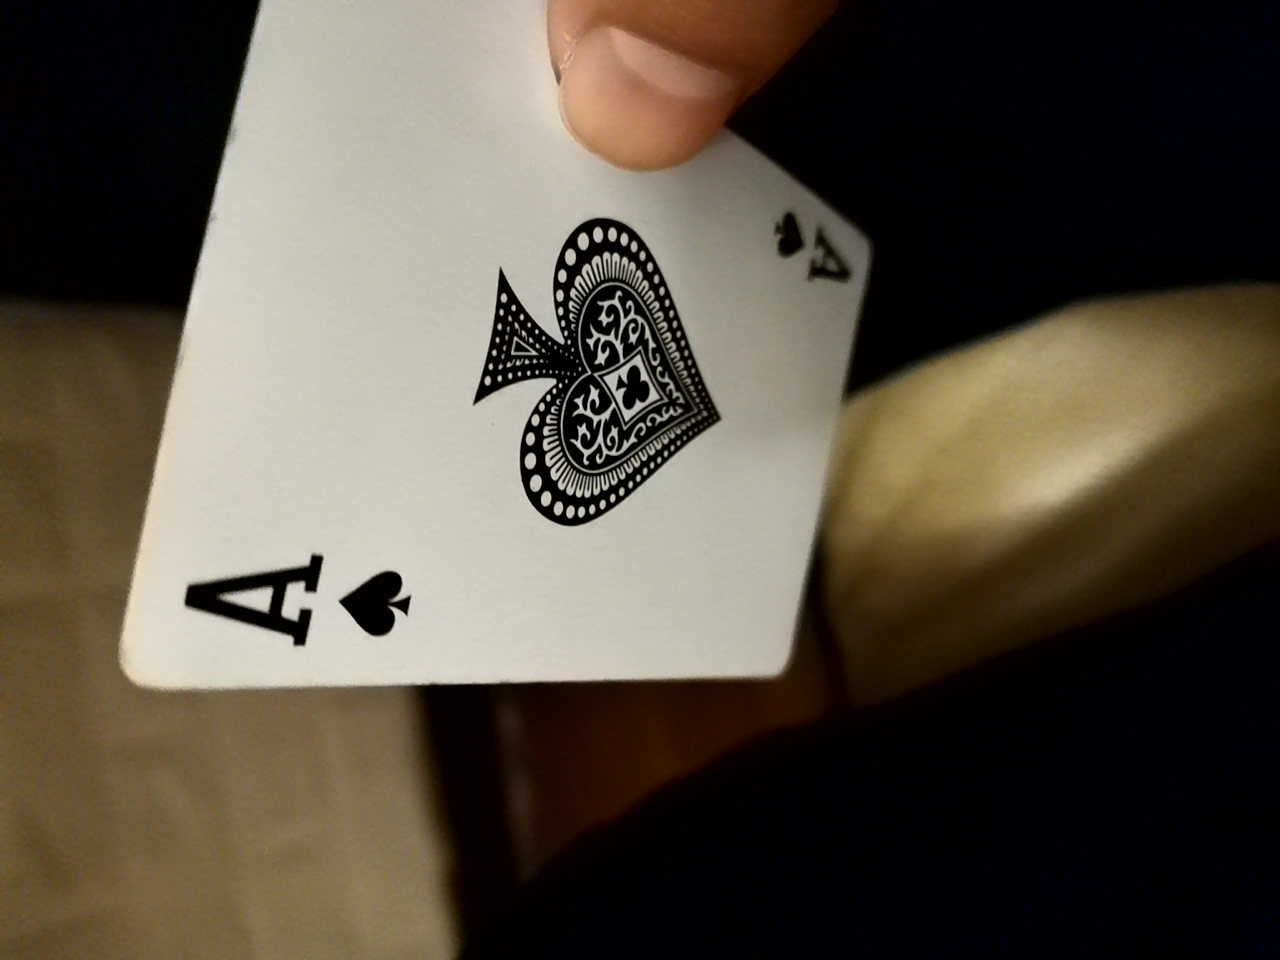ht a: (106, 17, 930, 705)
